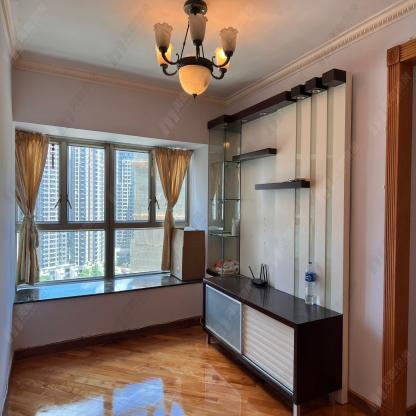Windowsill: (12, 120, 209, 303)
